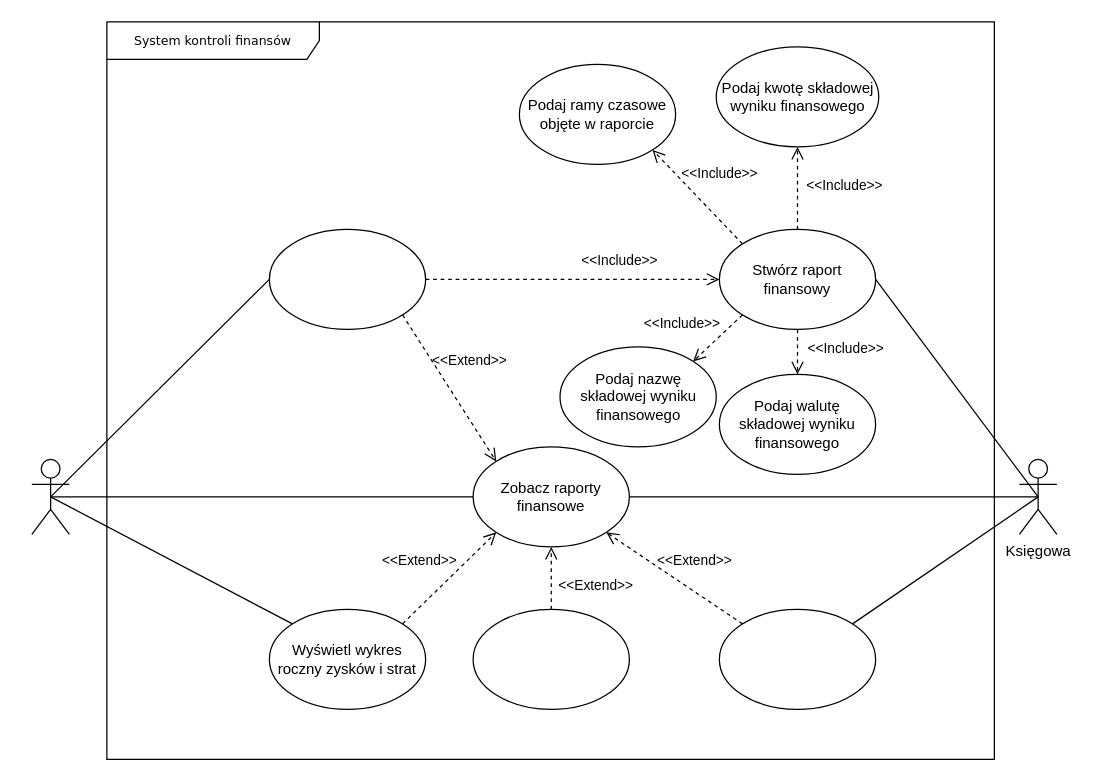
The diagram is 1093 pixels wide and 781 high, and some of its shapes have lost their labels. Here are the shapes that lost their labels. From the top down, the box of each, then its label:
(268, 228, 426, 329): Zatwierdź raport finansowy
(31, 458, 69, 534): Manager
(472, 608, 629, 709): Wyświetl status raportu finansowego
(718, 608, 876, 709): Edytuj raport finansowy
